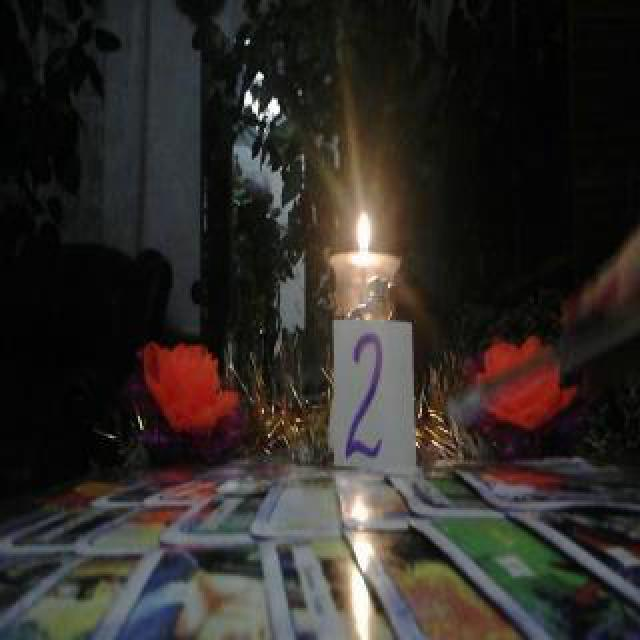Fire: (352, 200, 376, 258)
